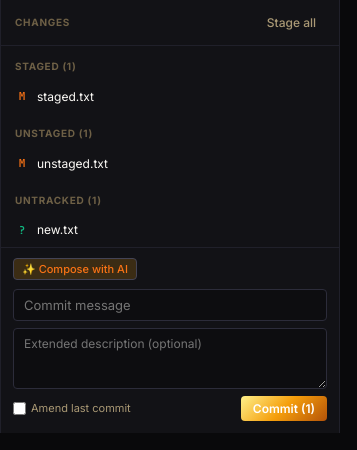
Test: StagingPanel › amend › pre-fills the previous message when amend is ticked
The image size is (357, 450).
Click the checkbox labelled "Amend last commit" at (20, 408), box [13,402,26,415]
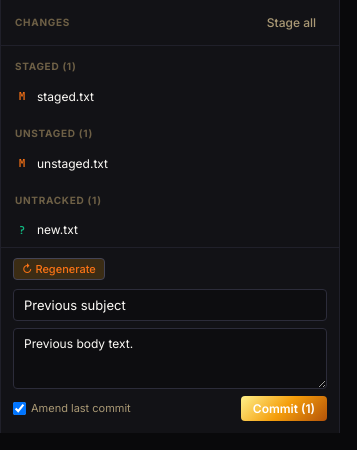
Result: the field with placeholder "Commit message" holds "Previous subject" at [13,289,327,321]
Result: the text box with placeholder "Extended description (optional)" holds "Previous body text." at [13,328,327,389]
